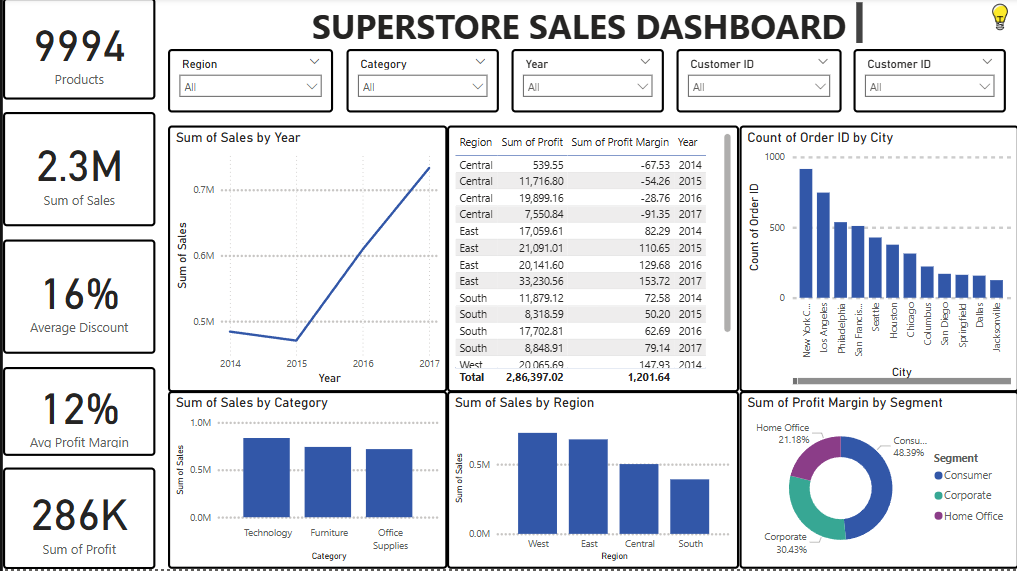

This screenshot's page, from the dashboard's own definition file:
{"tool":"powerbi","page":{"name":"Page 1","canvas":[1280,720],"ordinal":0},"visuals":[{"type":"card","fields":{"Values":["Cleaned_Superstore_Data.Average Discount"]},"box":[0,304,192,144],"z":0},{"type":"card","fields":{"Values":["Cleaned_Superstore_Data.Products"]},"box":[0,0,192,128],"z":1000},{"type":"card","fields":{"Values":["Sum(Cleaned_Superstore_Data.Profit)"]},"box":[0,592,192,128],"z":2000},{"type":"card","fields":{"Values":["Cleaned_Superstore_Data.Avg Profit Margin"]},"box":[0,464,192,112],"z":3000},{"type":"donutChart","fields":{"Category":["Cleaned_Superstore_Data.Segment"],"Y":["Sum(Cleaned_Superstore_Data.Profit Margin)"]},"box":[928,496,352,224],"z":4000},{"type":"lineStackedColumnComboChart","fields":{"Y":["Cleaned_Superstore_Data.Count of Order ID"],"Category":["Cleaned_Superstore_Data.City"]},"box":[928,160,352,336],"z":5000},{"type":"clusteredColumnChart","fields":{"Category":["Cleaned_Superstore_Data.Region"],"Y":["Sum(Cleaned_Superstore_Data.Sales)"]},"box":[560,496,368,224],"z":6000},{"type":"slicer","fields":{"Values":["Cleaned_Superstore_Data.Region"]},"box":[208,64,208,80],"z":7000},{"type":"card","fields":{"Values":["Sum(Cleaned_Superstore_Data.Sales)"]},"box":[0,144,192,144],"z":8000},{"type":"slicer","fields":{"Values":["Cleaned_Superstore_Data.Category"]},"box":[432,64,192,80],"z":9000},{"type":"columnChart","fields":{"Y":["Sum(Cleaned_Superstore_Data.Sales)"],"Category":["Cleaned_Superstore_Data.Category"]},"box":[208,496,352,224],"z":10000},{"type":"actionButton","box":[1232,0,48,48],"z":11000},{"type":"lineChart","fields":{"Y":["Sum(Cleaned_Superstore_Data.Sales)"],"Category":["Cleaned_Superstore_Data.Order Date.Variation.Date Hierarchy.Year"]},"box":[208,160,352,336],"z":12000},{"type":"textbox","box":[384,0,704,64],"z":13000},{"type":"tableEx","fields":{"Values":["Cleaned_Superstore_Data.Region","Sum(Cleaned_Superstore_Data.Profit)","Sum(Cleaned_Superstore_Data.Profit Margin)","Cleaned_Superstore_Data.Order Date.Variation.Date Hierarchy.Year"]},"box":[560,160,368,336],"z":14000},{"type":"slicer","fields":{"Values":["Cleaned_Superstore_Data.Order Date.Variation.Date Hierarchy.Year"]},"box":[640,64,192,80],"z":15000},{"type":"slicer","fields":{"Values":["Cleaned_Superstore_Data.Customer ID"]},"box":[848,64,208,80],"z":16000},{"type":"slicer","fields":{"Values":["Cleaned_Superstore_Data.Customer ID"]},"box":[1072,64,192,80],"z":17000}]}

Visuals, with their boxes in screenshot pixels (x1, y1, x2, y2), scaled from the page's 1280x720 canvas onto the 1017x571 screenshot:
card - Cleaned_Superstore_Data.Average Discount: [0, 241, 153, 355]
card - Cleaned_Superstore_Data.Products: [0, 0, 153, 102]
card - Sum(Cleaned_Superstore_Data.Profit): [0, 469, 153, 570]
card - Cleaned_Superstore_Data.Avg Profit Margin: [0, 368, 153, 457]
donutChart - Cleaned_Superstore_Data.Segment x Sum(Cleaned_Superstore_Data.Profit Margin): [737, 393, 1016, 570]
lineStackedColumnComboChart - Cleaned_Superstore_Data.Count of Order ID x Cleaned_Superstore_Data.City: [737, 127, 1016, 393]
clusteredColumnChart - Cleaned_Superstore_Data.Region x Sum(Cleaned_Superstore_Data.Sales): [445, 393, 737, 570]
slicer - Cleaned_Superstore_Data.Region: [165, 51, 331, 114]
card - Sum(Cleaned_Superstore_Data.Sales): [0, 114, 153, 228]
slicer - Cleaned_Superstore_Data.Category: [343, 51, 496, 114]
columnChart - Sum(Cleaned_Superstore_Data.Sales) x Cleaned_Superstore_Data.Category: [165, 393, 445, 570]
actionButton: [979, 0, 1016, 38]
lineChart - Sum(Cleaned_Superstore_Data.Sales) x Cleaned_Superstore_Data.Order Date.Variation.Date Hierarchy.Year: [165, 127, 445, 393]
textbox: [305, 0, 864, 51]
tableEx - Cleaned_Superstore_Data.Region x Sum(Cleaned_Superstore_Data.Profit): [445, 127, 737, 393]
slicer - Cleaned_Superstore_Data.Order Date.Variation.Date Hierarchy.Year: [508, 51, 661, 114]
slicer - Cleaned_Superstore_Data.Customer ID: [674, 51, 839, 114]
slicer - Cleaned_Superstore_Data.Customer ID: [852, 51, 1004, 114]
